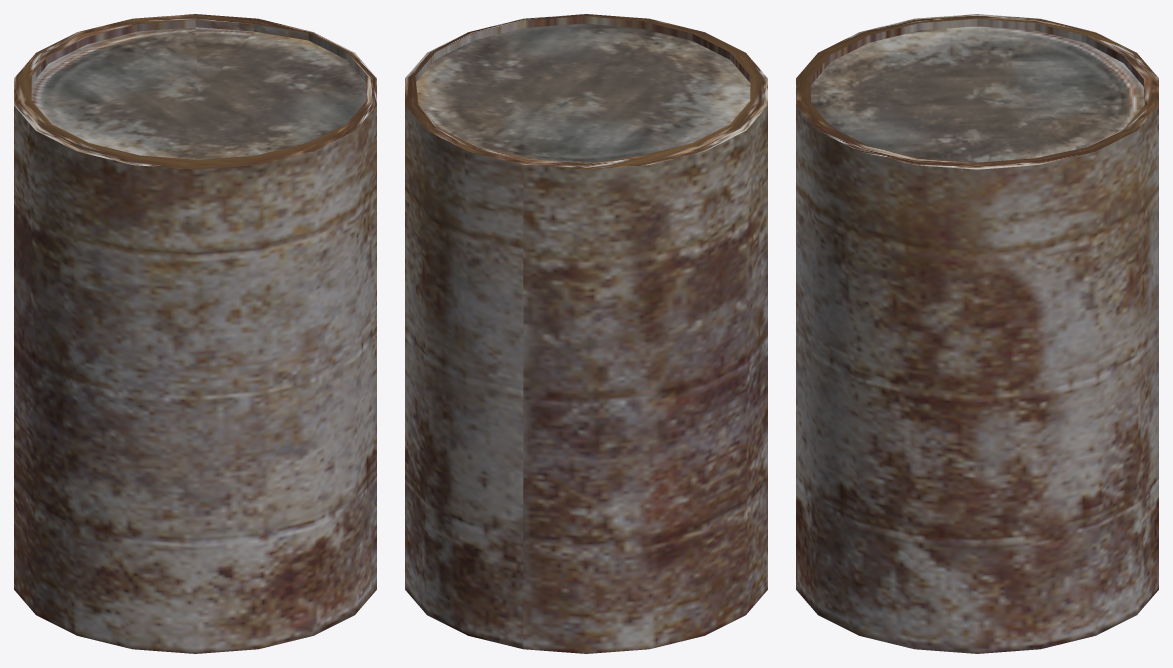
The model's file is barrel3.FBX.
The picture shows the model from 3 angles, left to right: view 1: azimuth 30°, elevation 25°; view 2: azimuth 150°, elevation 25°; view 3: azimuth 270°, elevation 25°; orthographic projection.
Parts seen in each view (by area): view 1: Cylinder001; view 2: Cylinder001; view 3: Cylinder001.
Part boxes in pixels (x1=…): Cylinder001: x1=14, y1=14, x2=376, y2=653; Cylinder001: x1=405, y1=14, x2=767, y2=653; Cylinder001: x1=796, y1=14, x2=1158, y2=653.
Size of the model in its own units: 32.64 by 47.6 by 32.14.
